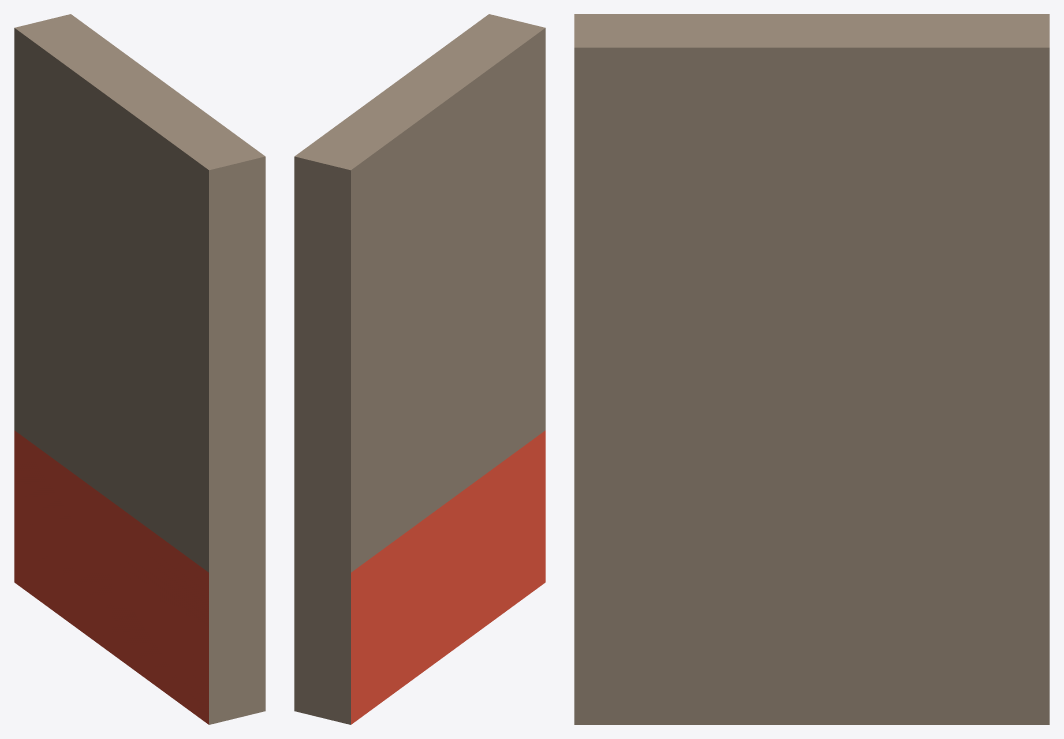
The model's file is Wall.fbx.
3 views of the same model, side by side, from view 1: azimuth 30°, elevation 25°; view 2: azimuth 150°, elevation 25°; view 3: azimuth 270°, elevation 25° (orthographic). The views are drawn at different scales.
Visible parts, largest first — view 1: Cube; view 2: Cube; view 3: Cube.
Part boxes in pixels (x1,y1,x2,y2): Cube: (14,14,265,724); Cube: (294,14,545,724); Cube: (574,14,1049,724).
Size of the model in its own units: 21.33 by 200 by 127.
